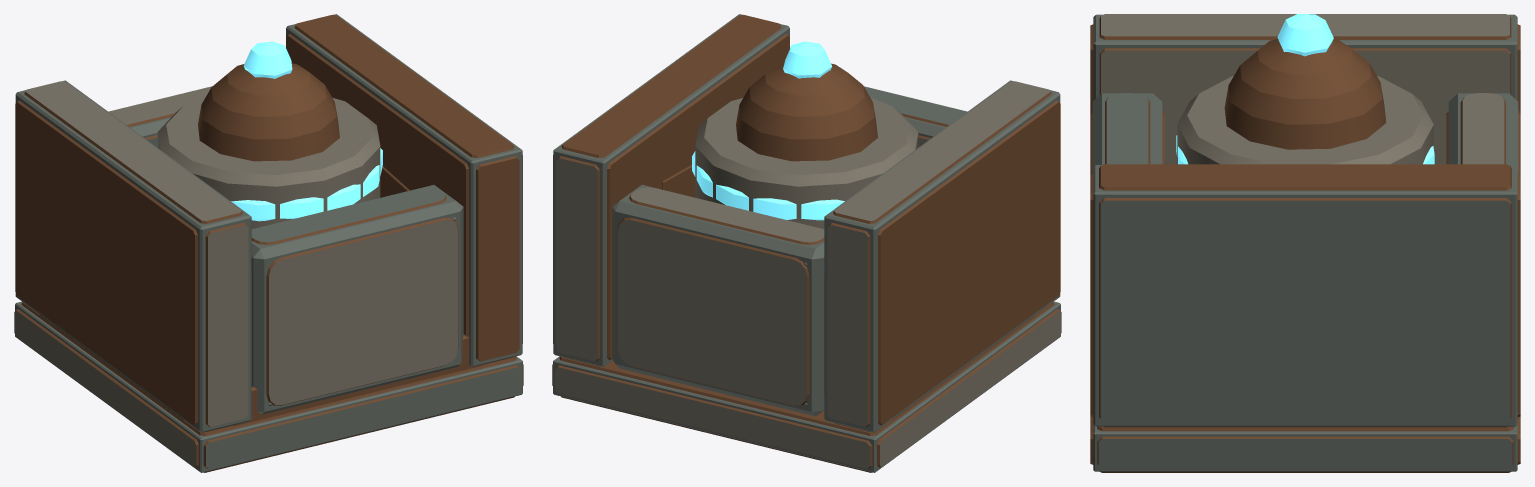
Rendered from R4X_DeployableShieldGenerator.fbx.
3 views of the same model, side by side, from view 1: azimuth 30°, elevation 25°; view 2: azimuth 150°, elevation 25°; view 3: azimuth 270°, elevation 25° (orthographic). The views are drawn at different scales.
Parts seen in each view (by area): view 1: R4X_DeployableShieldGenerator_Body, R4X_DeployableShieldGenerator_Payload; view 2: R4X_DeployableShieldGenerator_Body, R4X_DeployableShieldGenerator_Payload; view 3: R4X_DeployableShieldGenerator_Body, R4X_DeployableShieldGenerator_Payload.
Boxes of the visible parts, x1,y1,x2,y2 form: R4X_DeployableShieldGenerator_Body: (14, 14, 523, 472); R4X_DeployableShieldGenerator_Payload: (157, 41, 382, 228); R4X_DeployableShieldGenerator_Body: (552, 14, 1061, 472); R4X_DeployableShieldGenerator_Payload: (692, 41, 918, 228); R4X_DeployableShieldGenerator_Body: (1090, 14, 1520, 472); R4X_DeployableShieldGenerator_Payload: (1176, 14, 1434, 164).
Bounding box in the file's own units: 0.52 × 0.495 × 0.52.
